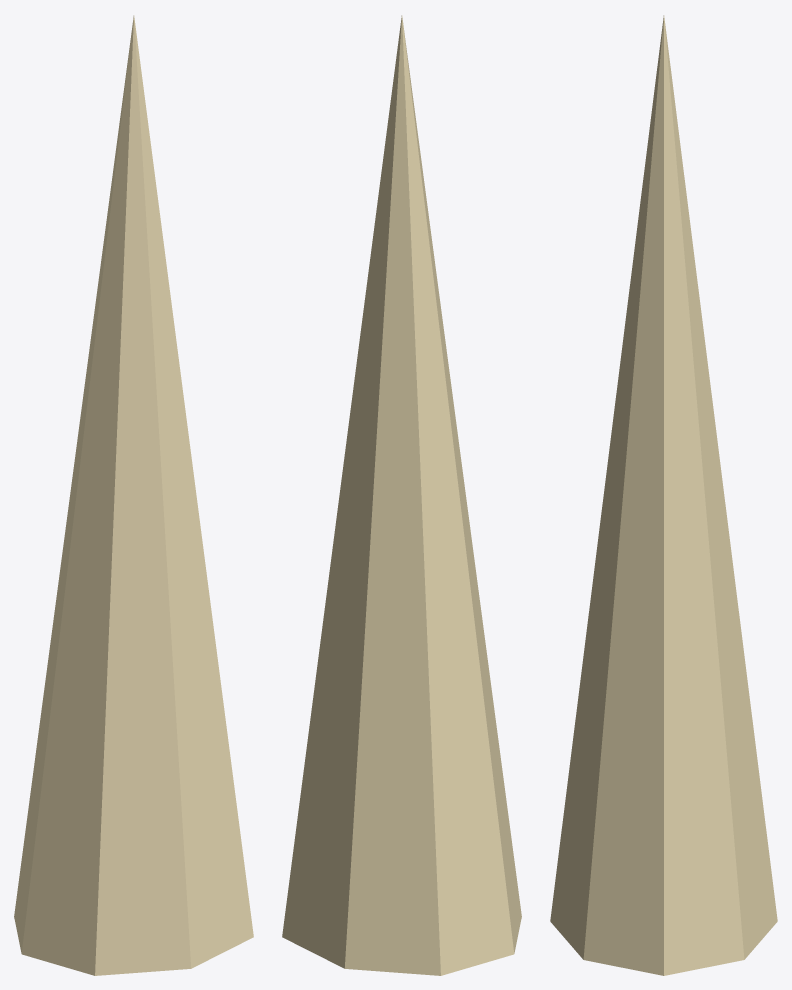
Rendered from pierce.glb.
3 views of the same model, side by side, from view 1: azimuth 30°, elevation 25°; view 2: azimuth 150°, elevation 25°; view 3: azimuth 270°, elevation 25° (orthographic).
Parts seen in each view (by area): view 1: Needle tooth; view 2: Needle tooth; view 3: Needle tooth.
Boxes of the visible parts, x1,y1,x2,y2 form: Needle tooth: (14,15,253,975); Needle tooth: (282,15,521,975); Needle tooth: (550,15,777,975).
Size of the model in its own units: 0.34 by 1.32 by 0.3.
